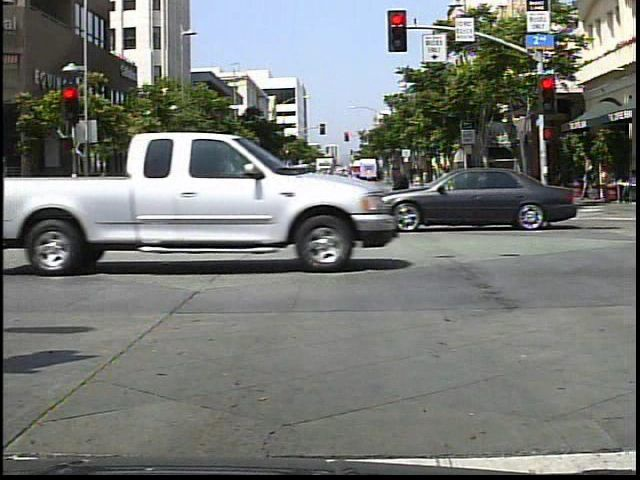person: (433, 160, 464, 224), (387, 163, 417, 228), (163, 166, 196, 225), (583, 156, 602, 205)
